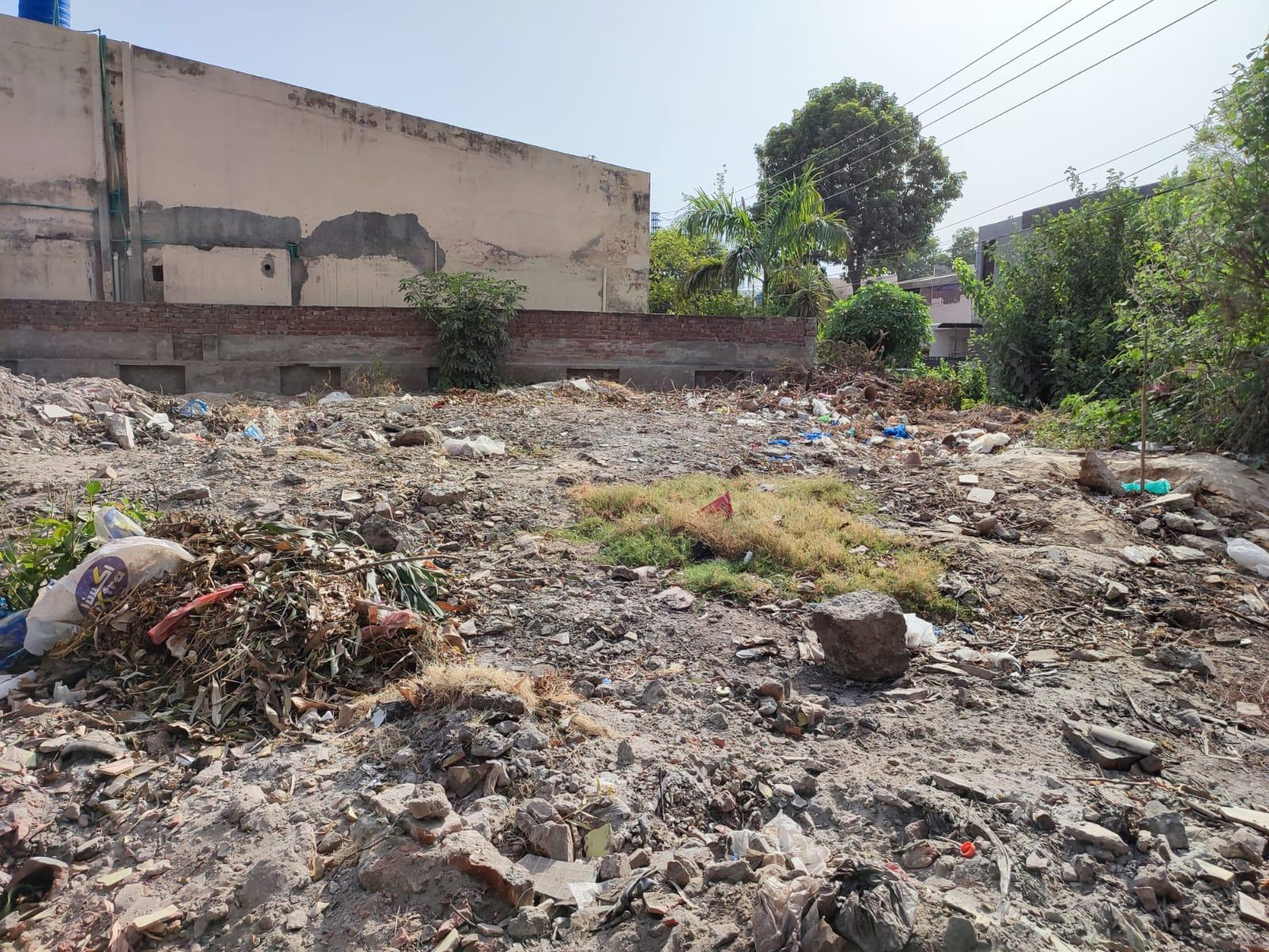garbage: (0, 389, 477, 778), (742, 367, 1018, 538), (1053, 461, 1269, 621)
